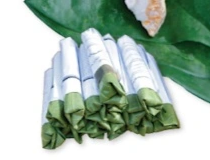bulathwita: (40, 27, 180, 150)
